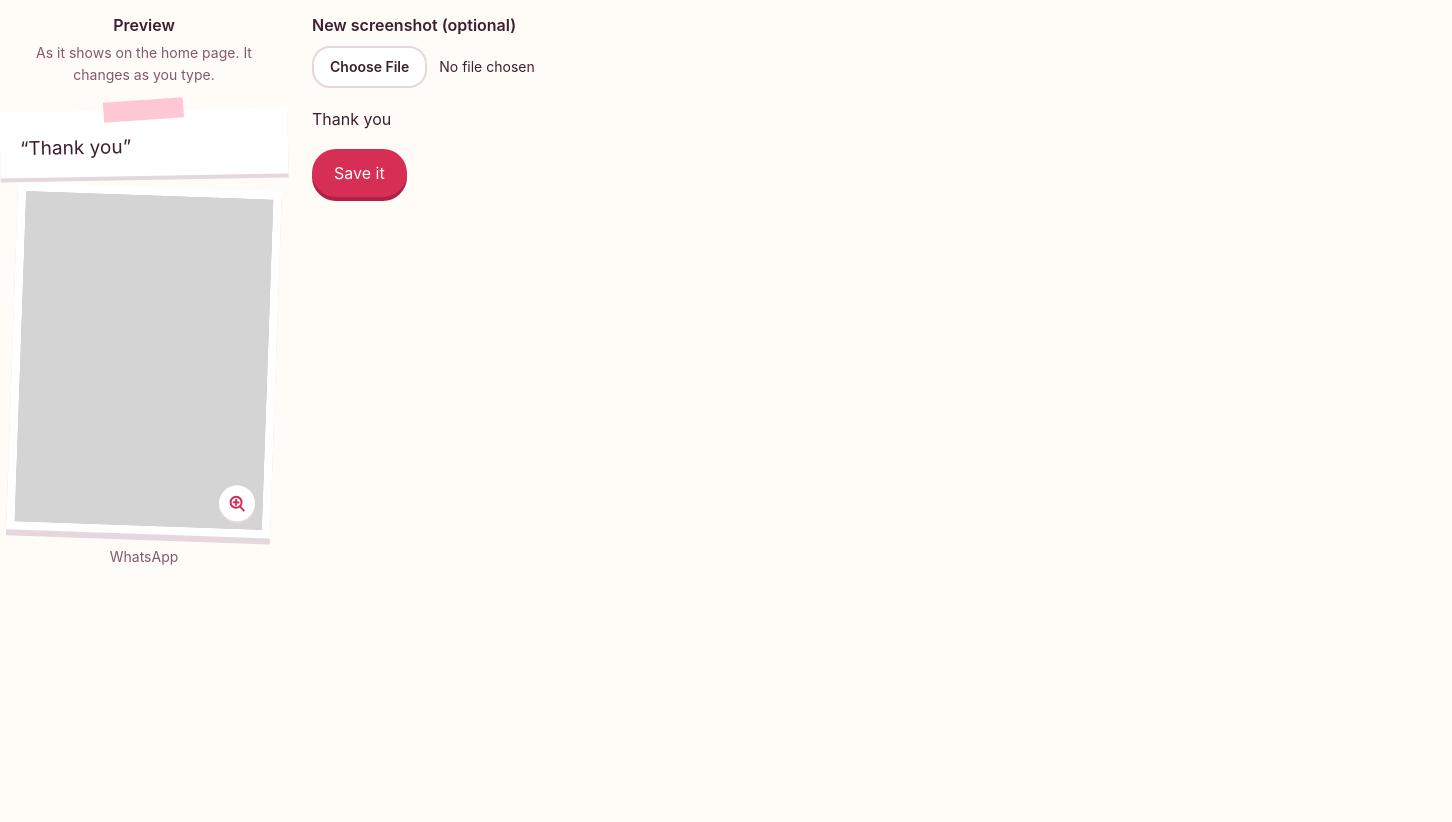
Test: TestimonialForm › asks for a reload when the page is older than the site
Click the button "Save it" at (359, 173), box left=312, top=149, right=407, bottom=197
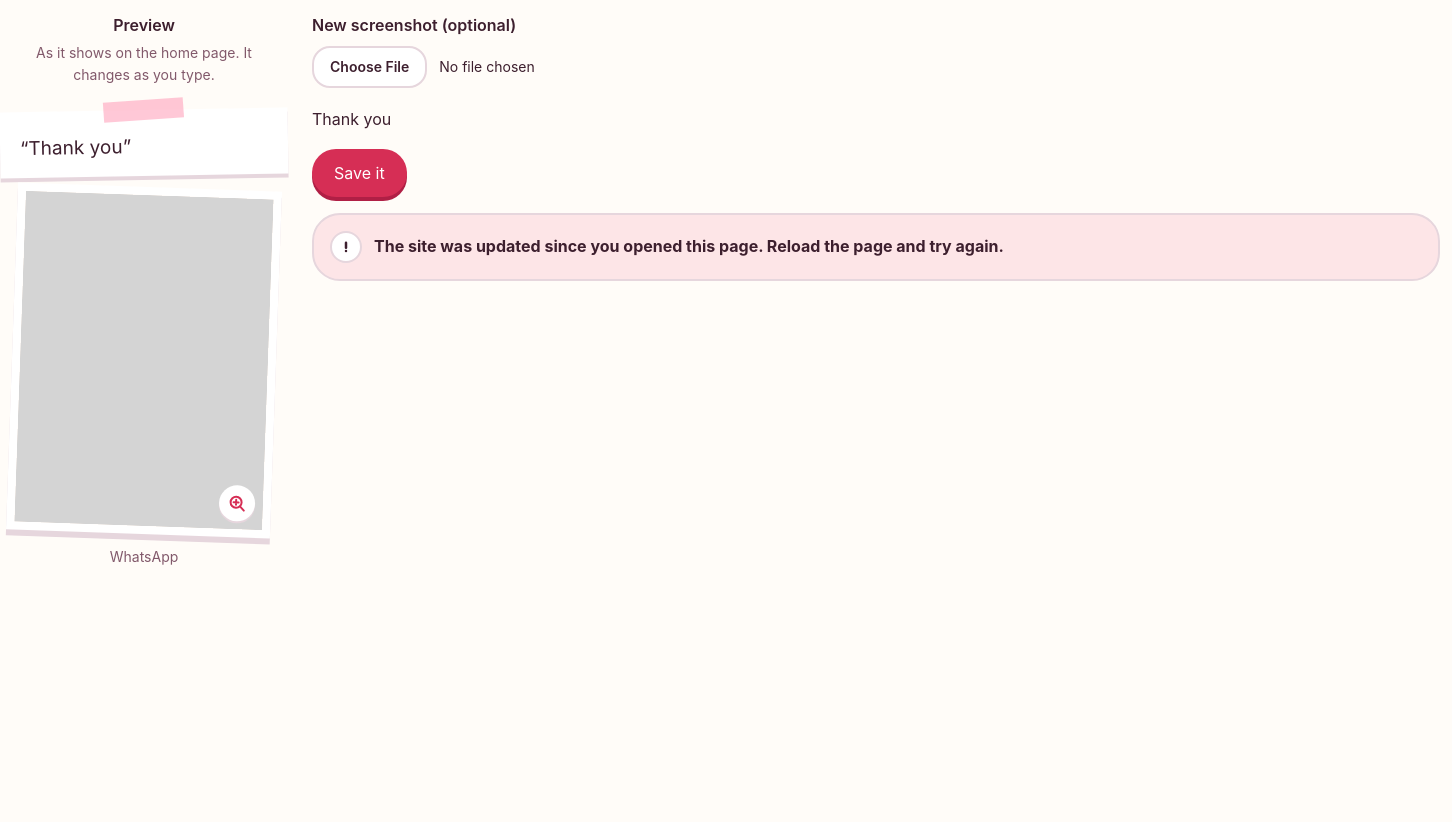
Now the text "The site was updated since you opened this page. Reload the page and try again." is shown, box left=374, top=233, right=1004, bottom=259
